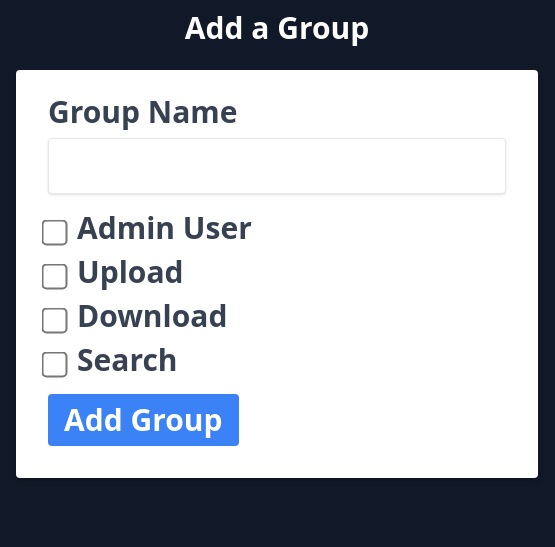
Scenario: AddGroup Component Suite › shows error message on failed submission
Type "Test Group" into the field labelled "Group Name" at (277, 166), box [48,138,506,194]
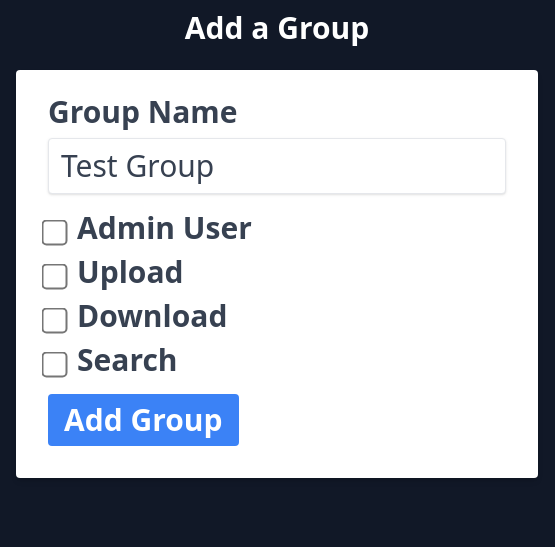
Click the button "Add Group" at (143, 420), box [48,394,238,446]
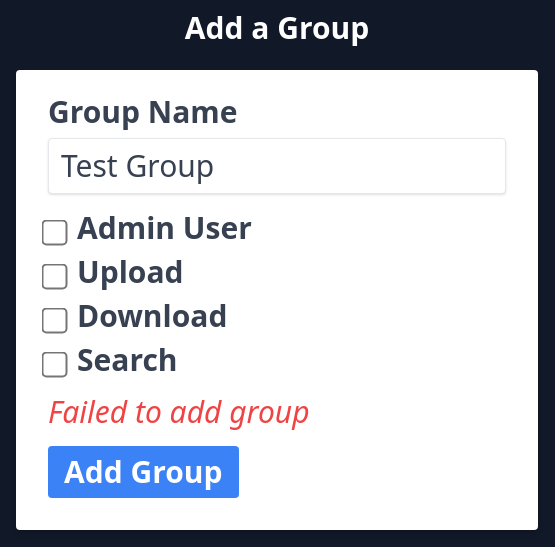
Result: the text "Failed to add group" is shown at [48,390,310,432]
